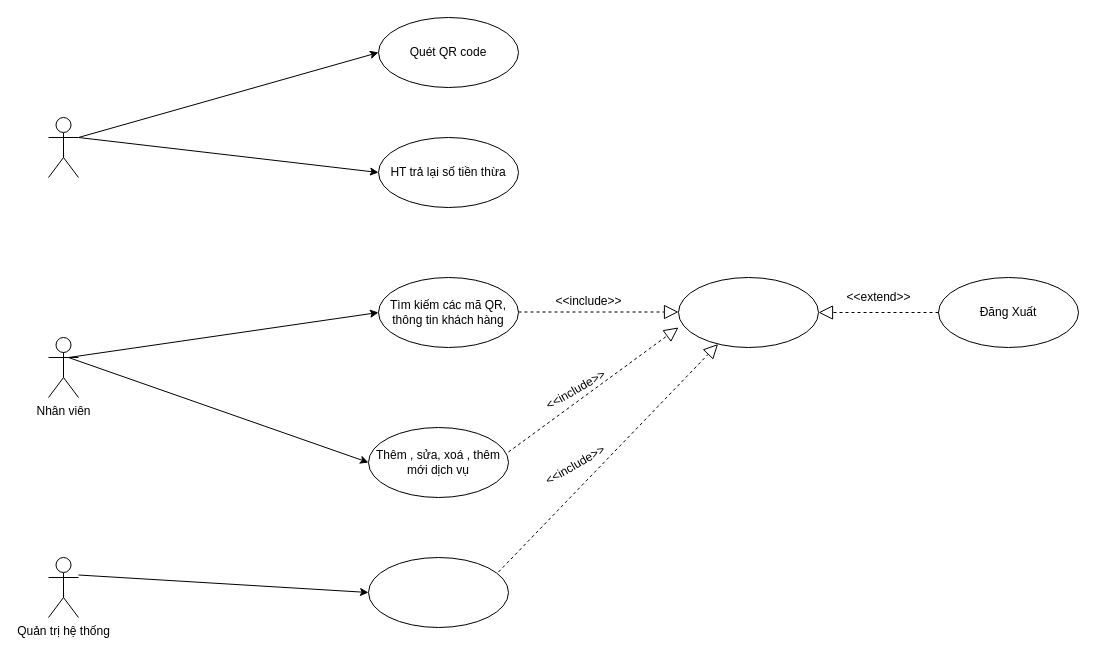
Some shapes in this 1096 by 656 pixel diagram are drawn without their labels. Each missing label, with the centre of its shape:
"Khách hàng" belongs at (x=63, y=147).
"Xuất ra báo cáo" belongs at (x=438, y=592).
"Đăng nhập" belongs at (x=748, y=312).
